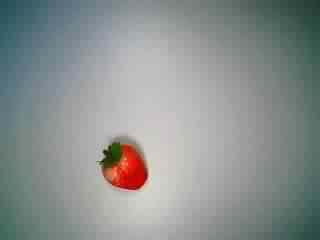strawberry: (88, 130, 156, 194)
